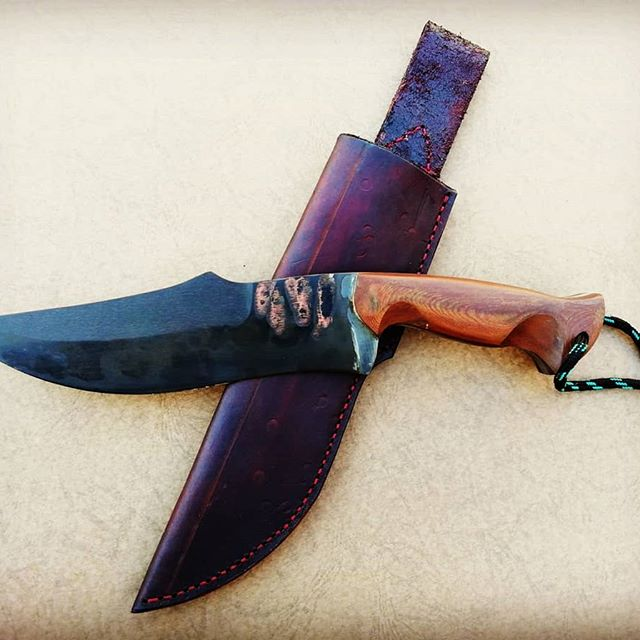knife: (1, 270, 605, 395)
